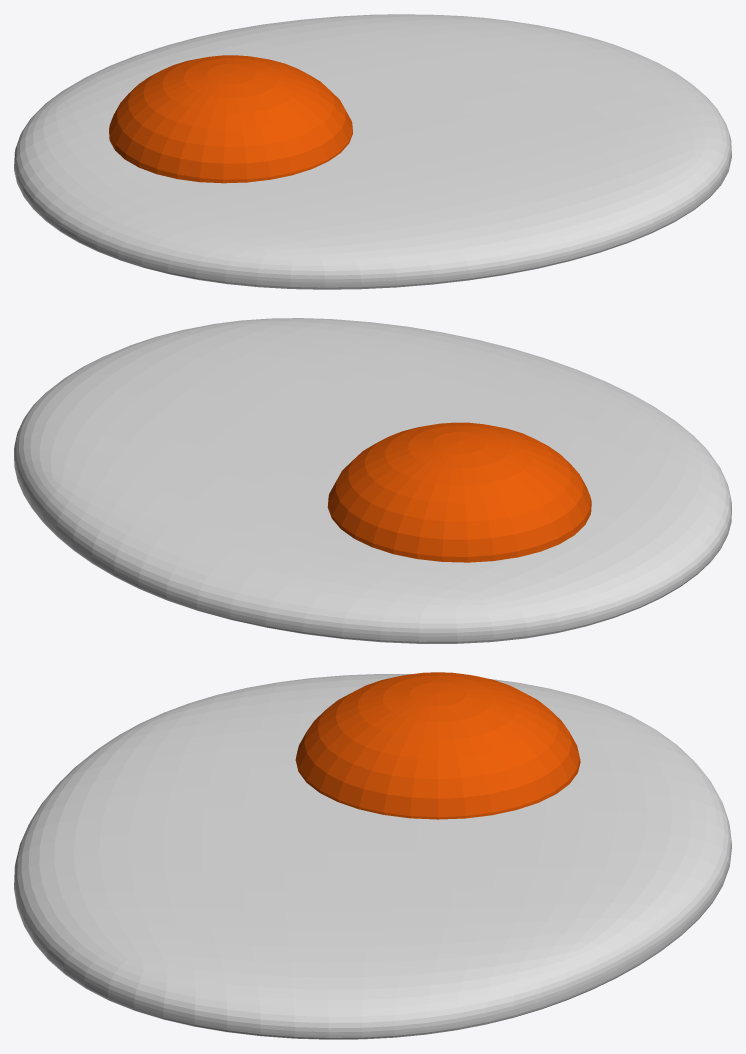
File: huevofrito.glb
The picture shows the model from 3 angles, top to bottom: view 1: azimuth 30°, elevation 25°; view 2: azimuth 150°, elevation 25°; view 3: azimuth 270°, elevation 25°; orthographic projection. The views are drawn at different scales.
Visible parts, largest first — view 1: Plane, Sphere; view 2: Plane, Sphere; view 3: Plane, Sphere.
Part boxes in pixels (x1=…): Plane: x1=14, y1=14, x2=731, y2=289; Sphere: x1=109, y1=55, x2=352, y2=183; Plane: x1=14, y1=318, x2=731, y2=643; Sphere: x1=327, y1=422, x2=591, y2=562; Plane: x1=14, y1=674, x2=731, y2=1039; Sphere: x1=295, y1=672, x2=580, y2=819.
Size of the model in its own units: 1.76 by 0.2634 by 1.53.
